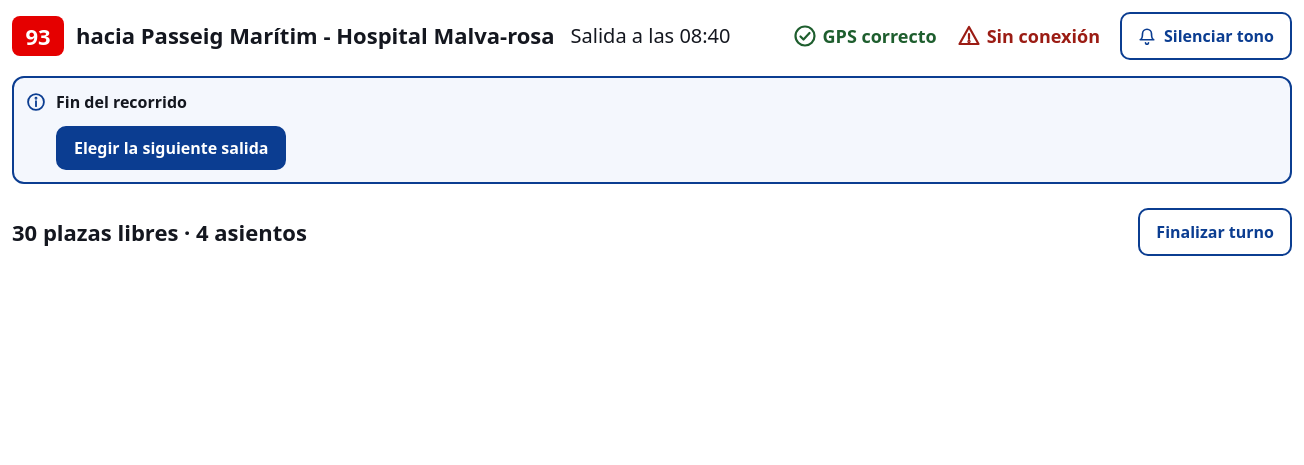
Scenario: ShiftPage › [driver_ui.AC-04] [driver_ui.AC-08] [driver_ui.AC-09] "Elegir la siguiente salida" keeps the position, the wake lock and /ws/driver
Check: the text "Salida a las 08:40" is shown, box [571,22,731,50]
Click the button "Elegir la siguiente salida": {"x": 171, "y": 148} [56,126,286,170]
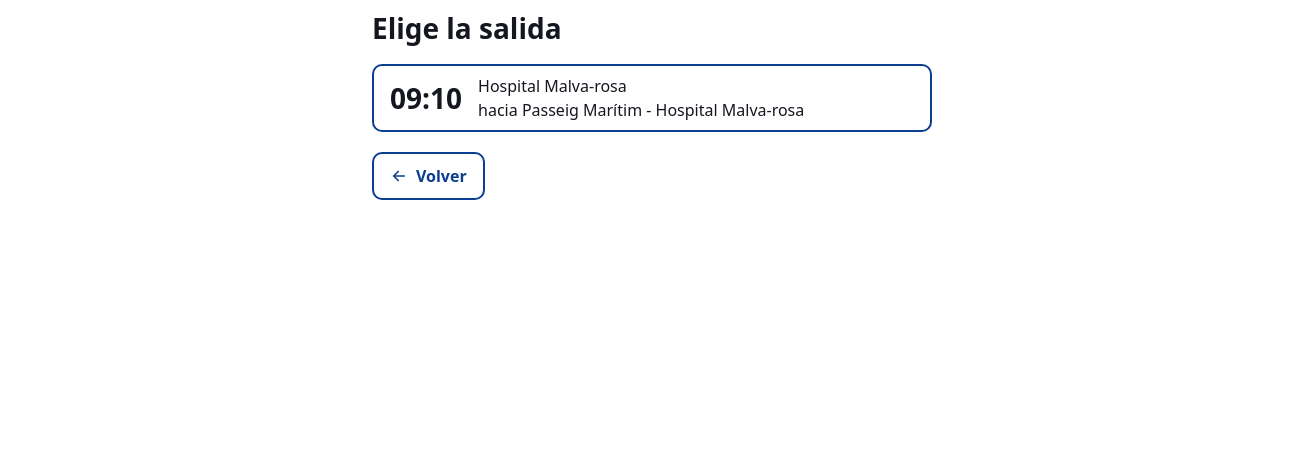
Click the button "09:10": {"x": 652, "y": 98} [372,64,932,132]
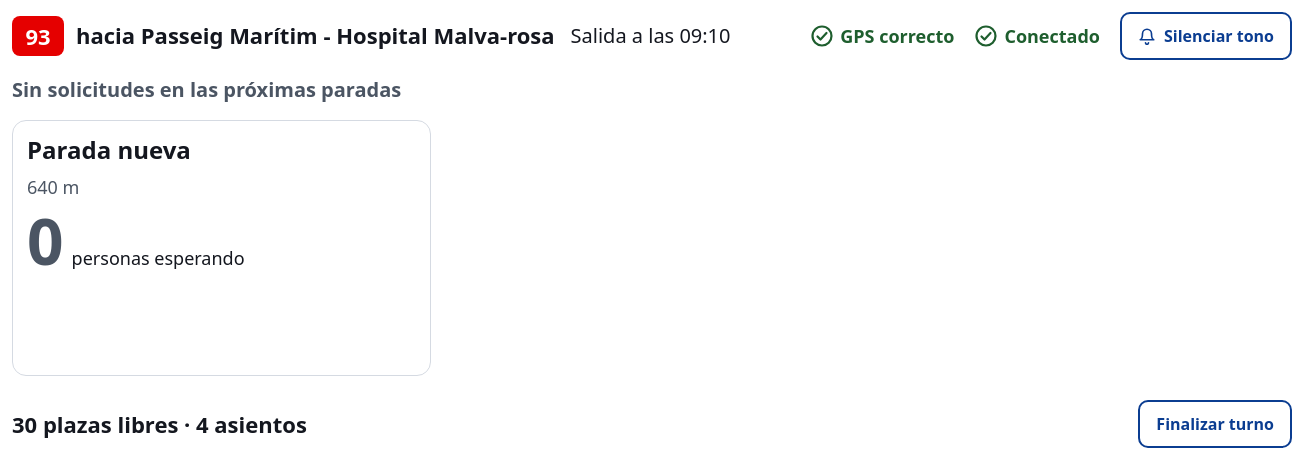
Check: the text "Salida a las 09:10" is shown, box [571,22,731,50]
Check: the text "Parada nueva" is shown, box [27,135,191,165]
